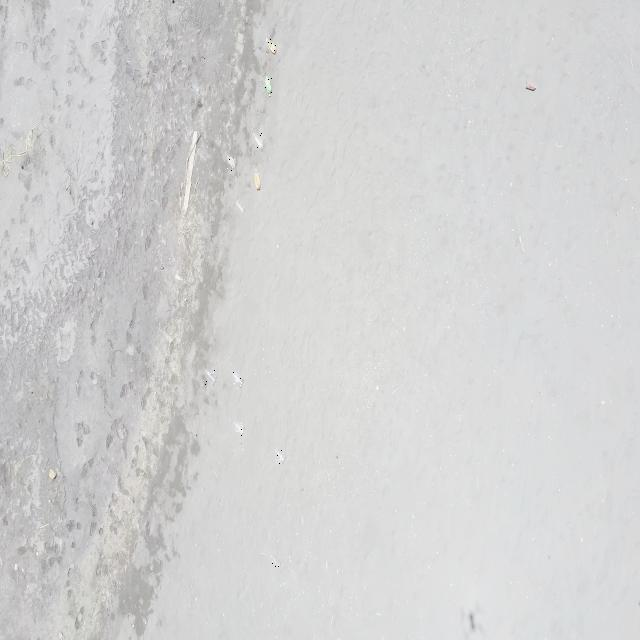plastic-bottle: (266, 38, 276, 55), (265, 77, 272, 97), (254, 169, 260, 190)
takeaway-cup: (205, 369, 217, 386), (233, 372, 244, 389), (271, 554, 281, 571), (252, 133, 262, 149), (236, 200, 246, 215), (234, 421, 244, 436), (227, 158, 237, 172), (276, 450, 285, 464)
